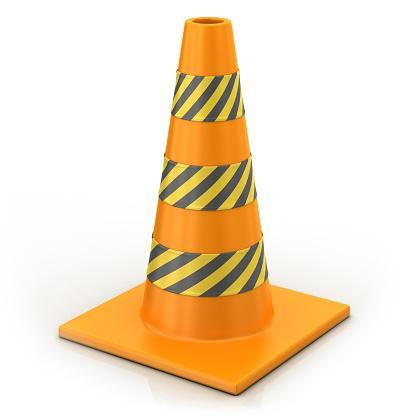Cone: (59, 14, 353, 400)
